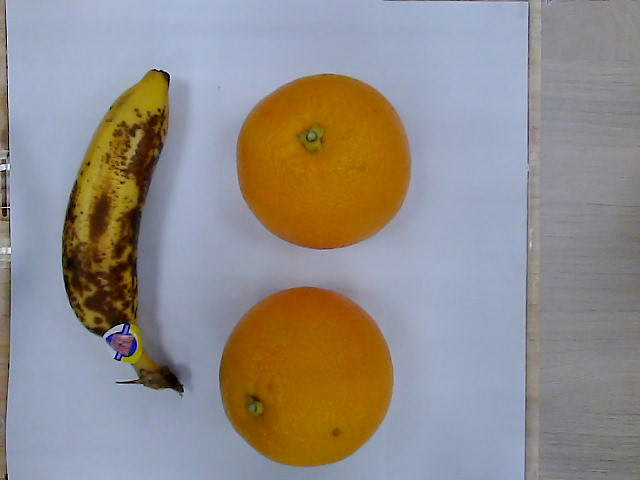fresh_orange: (218, 285, 396, 466), (235, 74, 414, 250)
rotten_banana: (61, 70, 187, 396)
